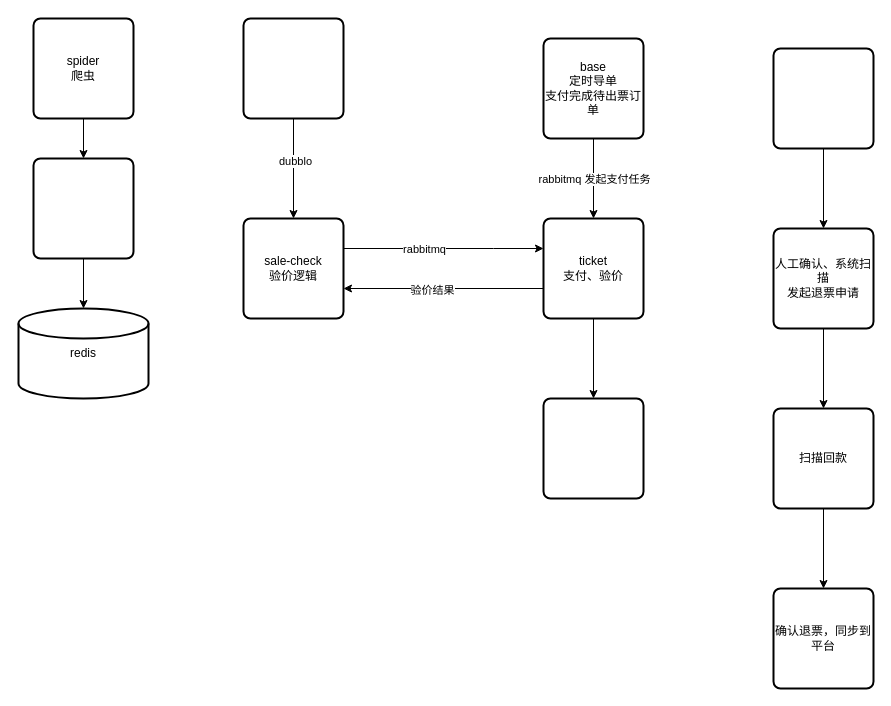
The diagram is 891 pixels wide and 706 high, and some of its shapes have lost their labels. Each missing label, with the centre of its shape:
"center 数据处理" goes at point 83,208.
"sale 提供查询、生单、验价接口" goes at point 293,68.
"定时导退票订单" goes at point 823,98.
"支付结果处理 回填到平台 出票完成" goes at point 593,448.
